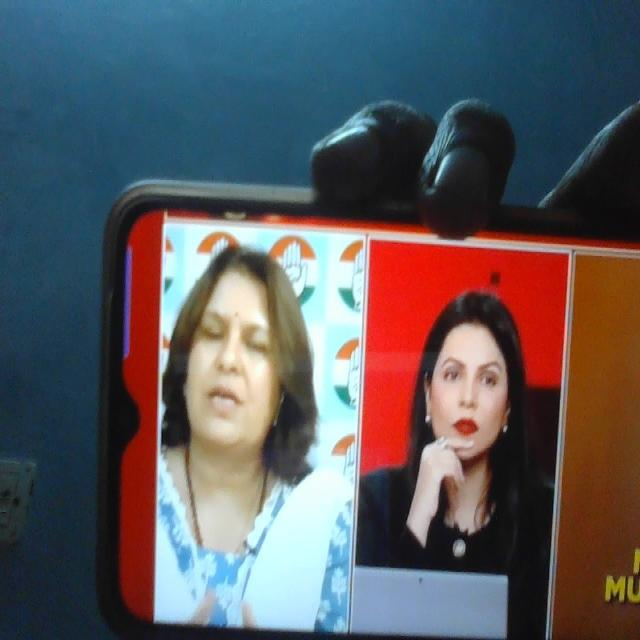fake: (174, 236, 294, 463), (421, 282, 525, 478)
